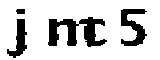5: (117, 4, 149, 50)
j: (4, 7, 35, 60)
m: (43, 16, 90, 52)
t: (84, 12, 111, 57)
